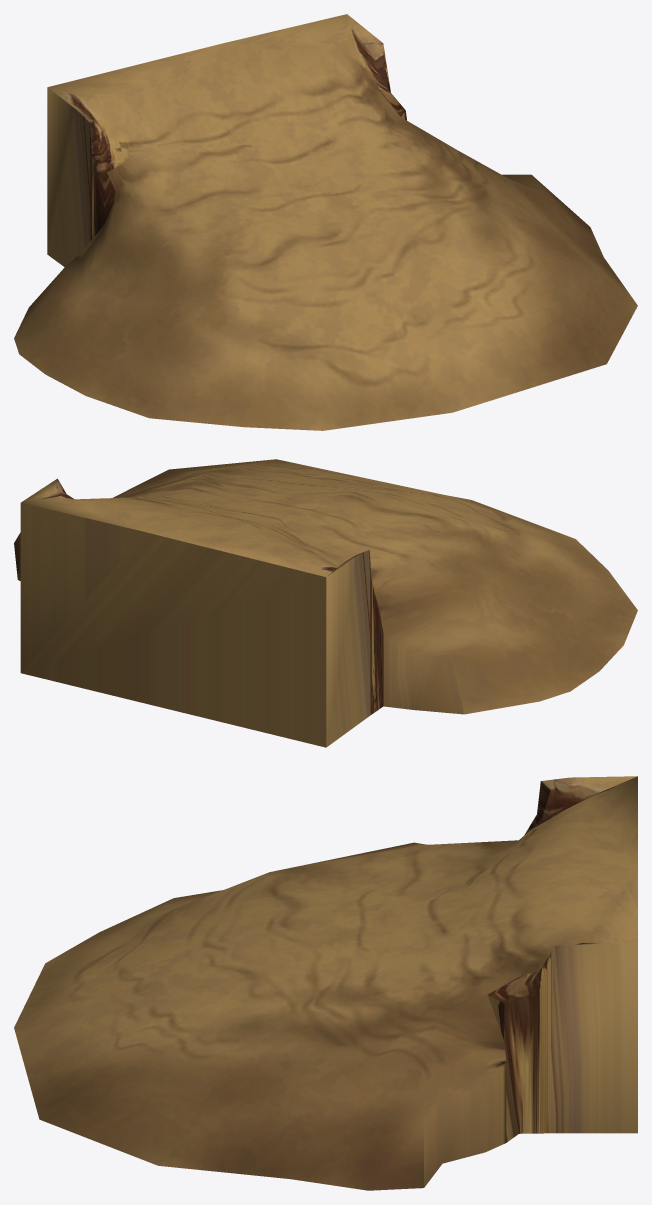
File: nashgar_stair_base8_p1_01_col.FBX
3 renders of one model, top to bottom at view 1: azimuth 30°, elevation 25°; view 2: azimuth 150°, elevation 25°; view 3: azimuth 270°, elevation 25°, orthographic. The views are drawn at different scales.
Parts seen in each view (by area): view 1: nashgar_stair_base8_p1_01_col; view 2: nashgar_stair_base8_p1_01_col; view 3: nashgar_stair_base8_p1_01_col.
Boxes of the visible parts, left/top/right/bottom form: nashgar_stair_base8_p1_01_col: left=14, top=14, right=637, bottom=430; nashgar_stair_base8_p1_01_col: left=14, top=459, right=637, bottom=747; nashgar_stair_base8_p1_01_col: left=14, top=776, right=637, bottom=1190.
Size of the model in its own units: 15.36 by 4.44 by 13.03.
